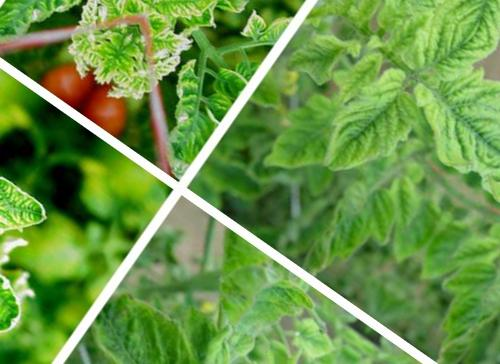Tomato mold leaf: (299, 50, 446, 213), (382, 42, 500, 195), (72, 281, 224, 364), (402, 9, 500, 112), (193, 348, 325, 364)
